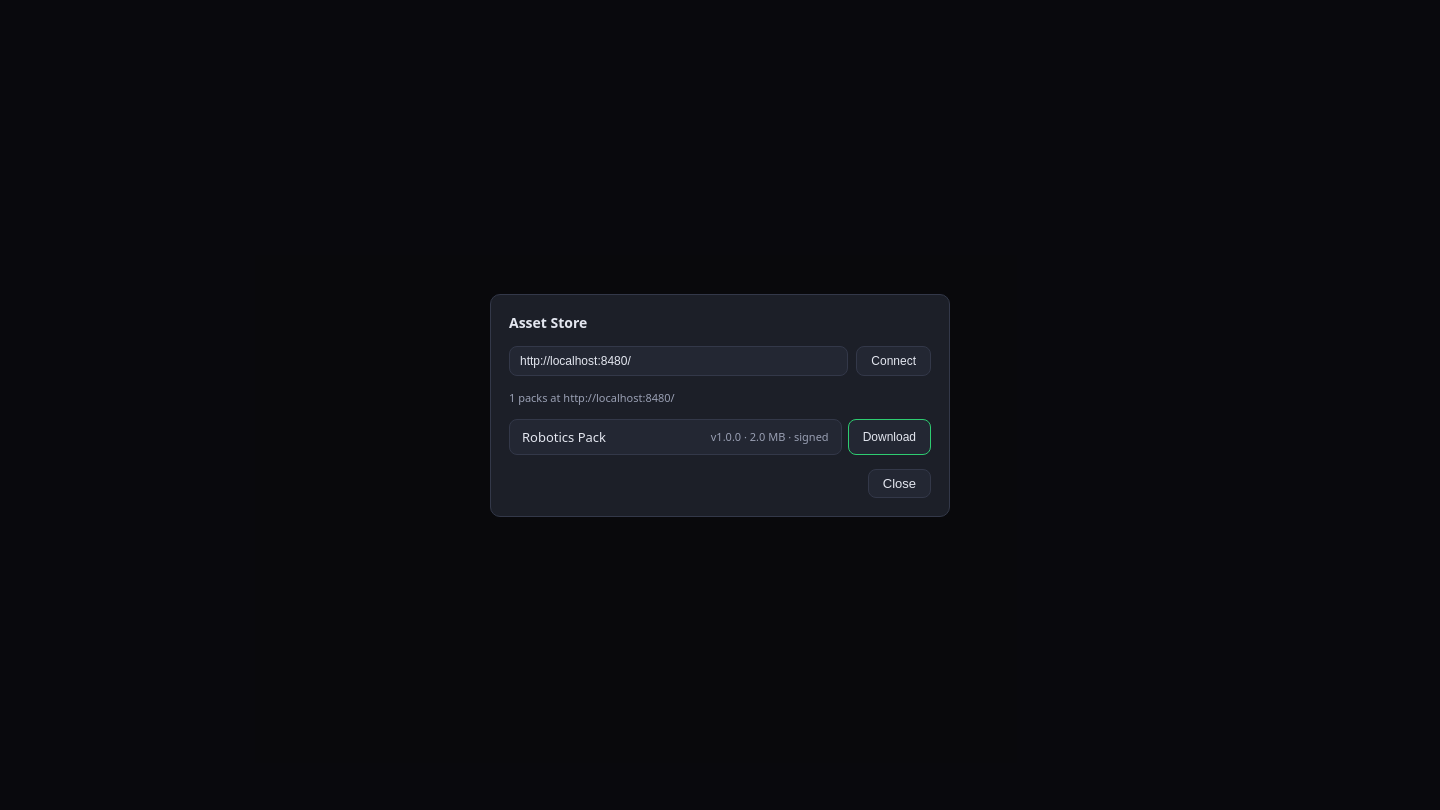
AssetStore trust flow › refuses a tampered pack outright, with no way to override
Click the button "Download": {"x": 889, "y": 436} [848, 418, 931, 454]
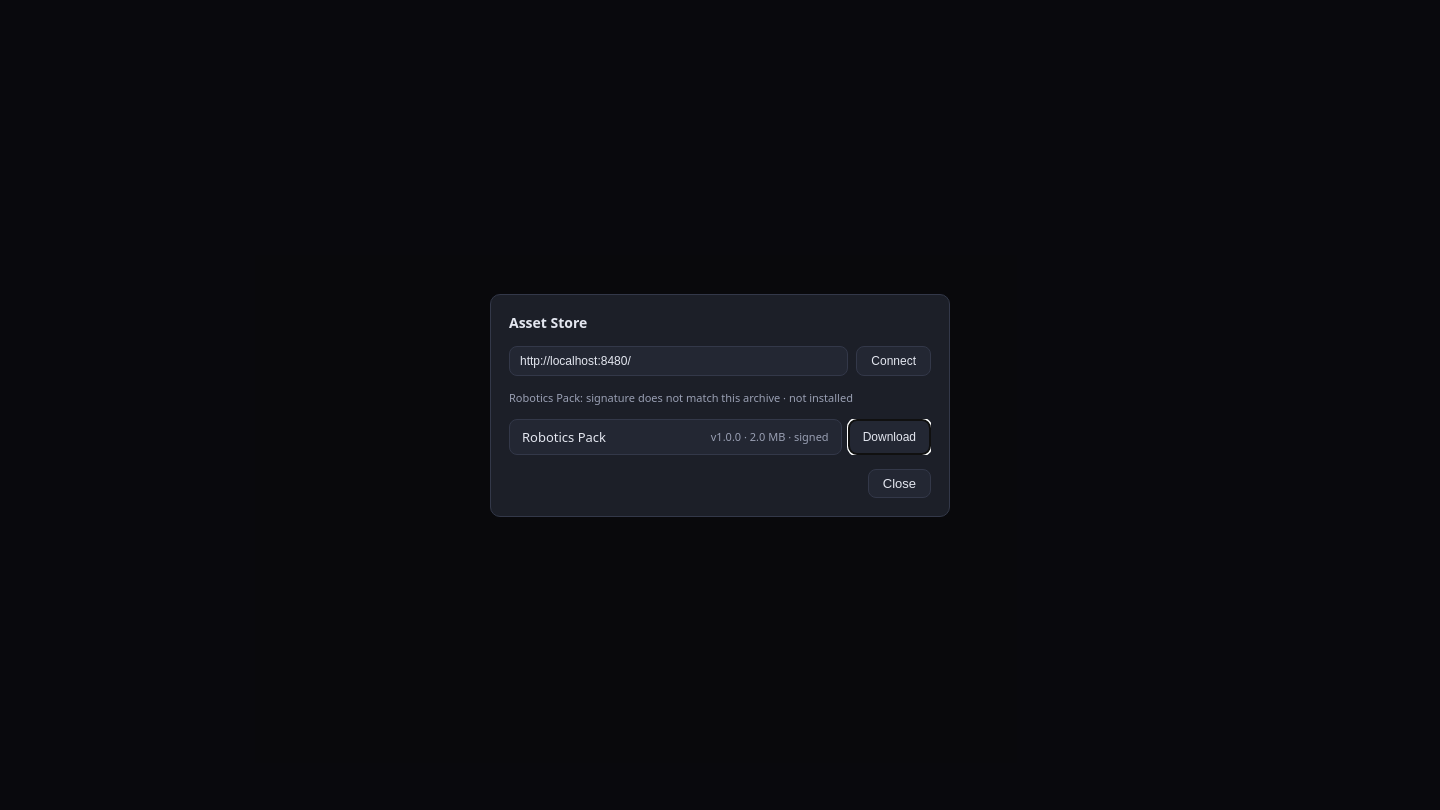
expect the text "signature does not match" is shown: met, box [509, 390, 853, 404]
